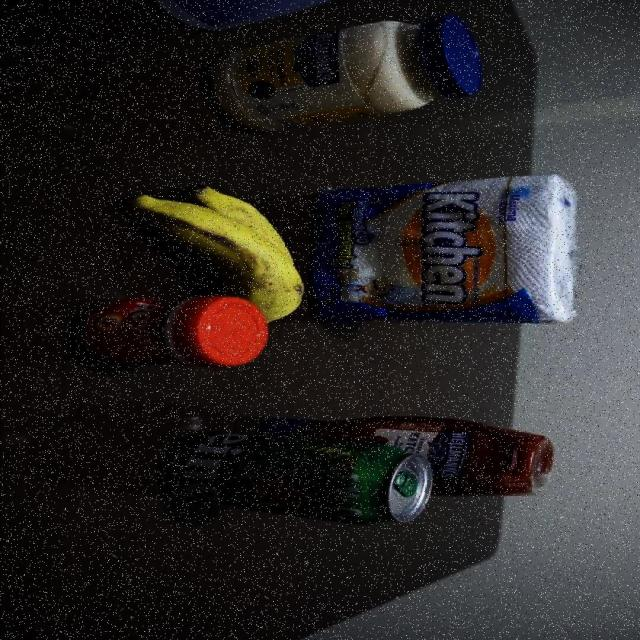Banana: (114, 179, 311, 295)
BeerCan: (174, 438, 422, 521)
Ketchup: (436, 416, 554, 499)
Mayonnaise: (205, 16, 484, 133)
Napkin: (316, 176, 581, 326)
Yeast: (73, 298, 273, 368)
